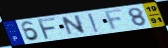6: (21, 20, 40, 42)
8: (126, 7, 148, 27)
F: (103, 7, 125, 32), (36, 17, 58, 41)
I: (87, 12, 102, 34)
N: (61, 14, 88, 37)
